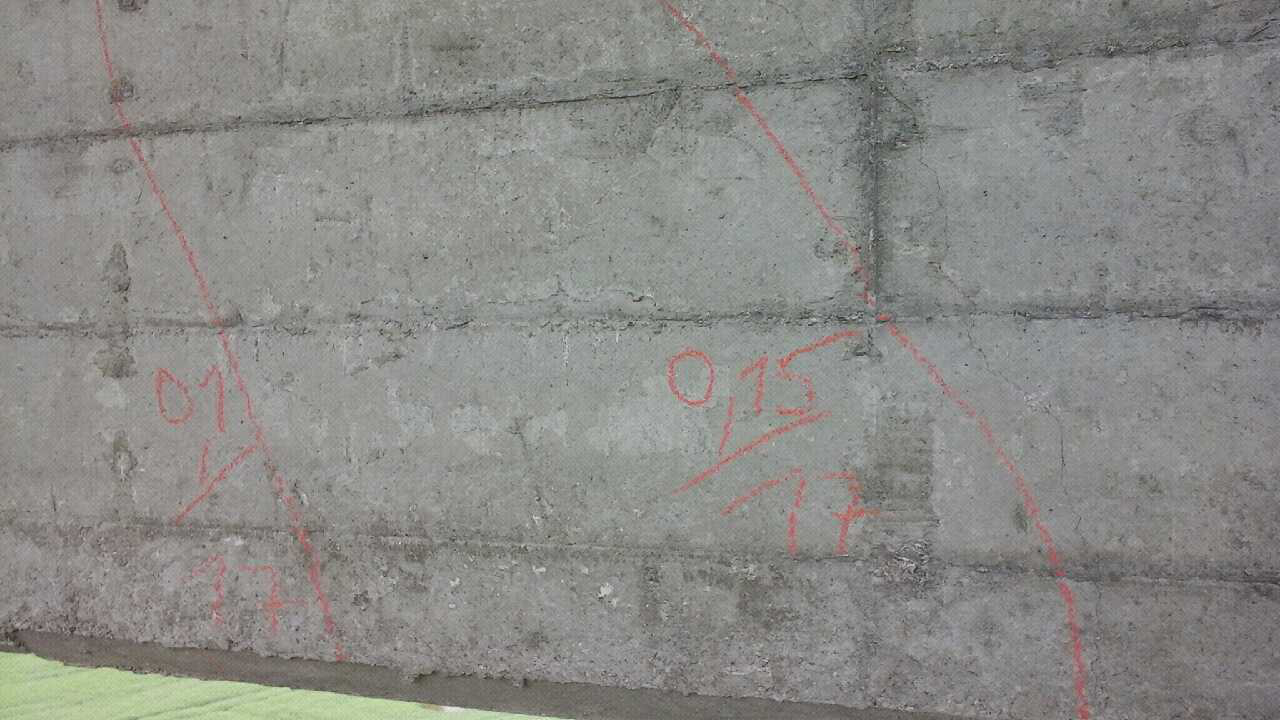crack: (1050, 422, 1103, 719), (346, 83, 692, 120), (902, 94, 961, 291), (57, 638, 411, 670), (341, 415, 545, 469), (1031, 397, 1088, 588), (965, 562, 1279, 596), (964, 322, 1044, 400), (1052, 415, 1092, 566), (930, 172, 972, 309), (1009, 304, 1269, 326), (912, 138, 952, 280), (386, 416, 541, 450), (469, 283, 655, 309), (1022, 390, 1069, 492), (1080, 567, 1279, 590), (512, 413, 549, 526), (354, 428, 438, 470), (211, 643, 355, 663), (931, 561, 1063, 579), (771, 2, 815, 44)
